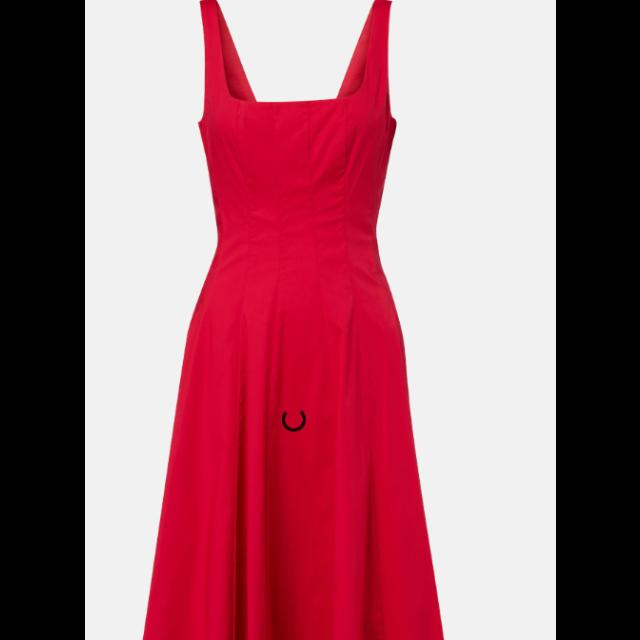dress: (144, 2, 436, 636)
